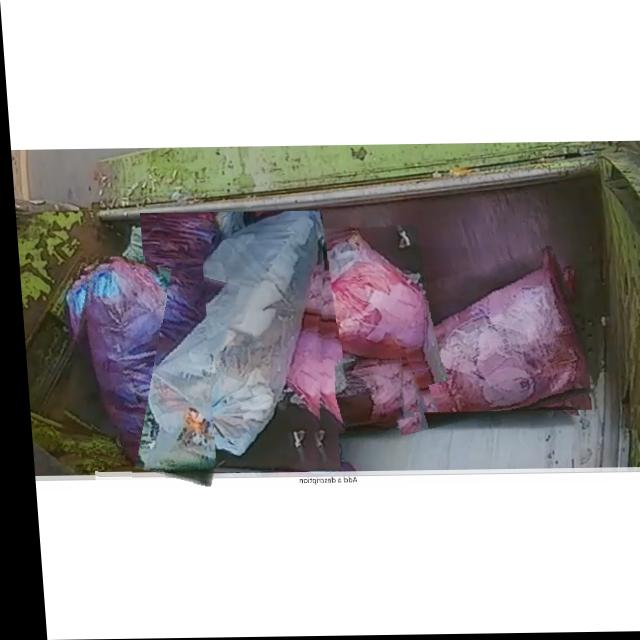other_trashbag: (146, 212, 319, 467), (389, 249, 583, 414), (79, 257, 207, 484), (295, 233, 418, 363), (320, 360, 396, 428)
